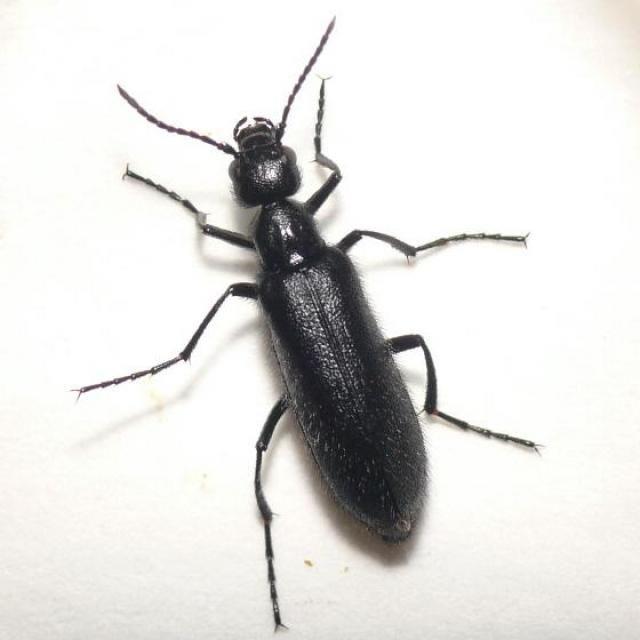BlisterBeetle-Adult-: (86, 11, 558, 639)
